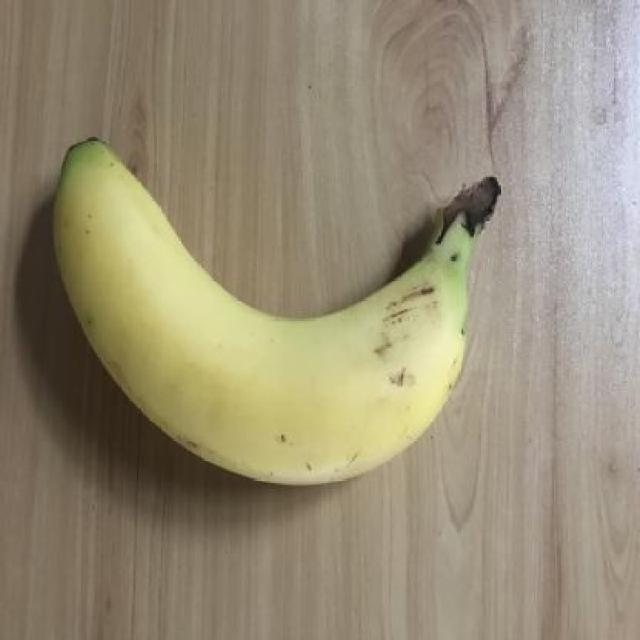banana: (44, 126, 504, 492)
